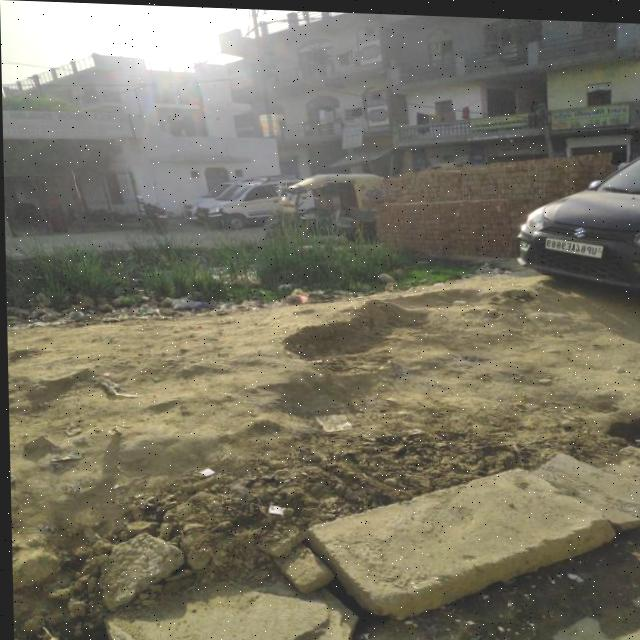plate: (544, 232, 605, 253)
